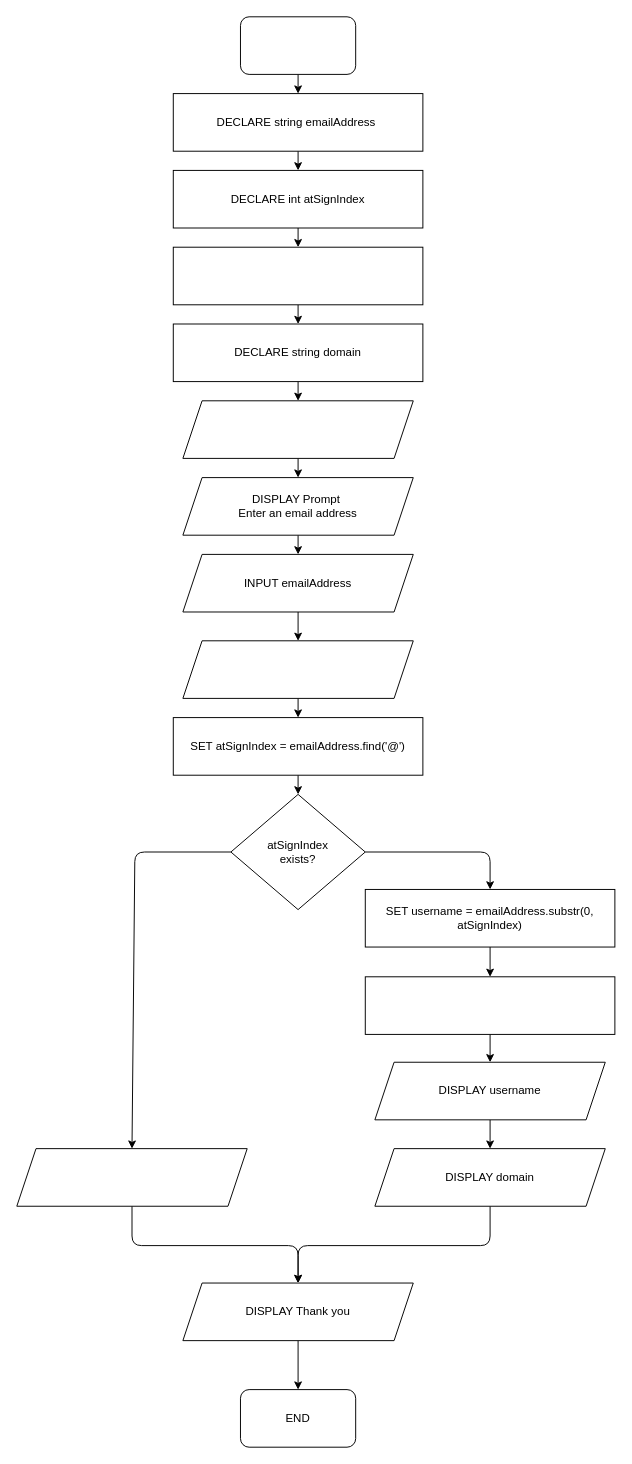
The diagram is 632 pixels wide and 1464 high, and some of its shapes have lost their labels. Here are the shapes that lost their labels. From the top down, the centre of each, then its label:
At pixel 298 45: "START".
At pixel 297 275: "DECLARE string username".
At pixel 297 429: "DISPLAY Welcome message".
At pixel 297 669: "DISPLAY You entered {emailAddress}".
At pixel 489 1005: "SET domain = emailAddress.substr(atSignIndex + 1, emailAddress.length())".
At pixel 131 1177: "DISPLAY Missing '@' sign".
